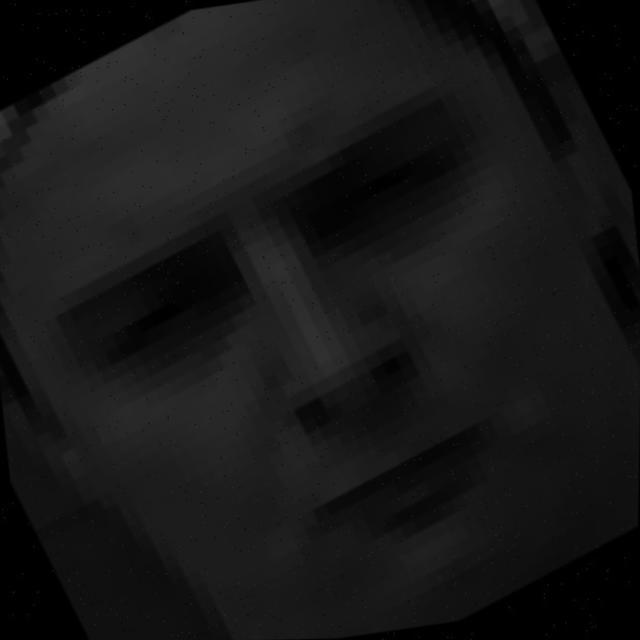Disgust: (1, 81, 608, 550)
